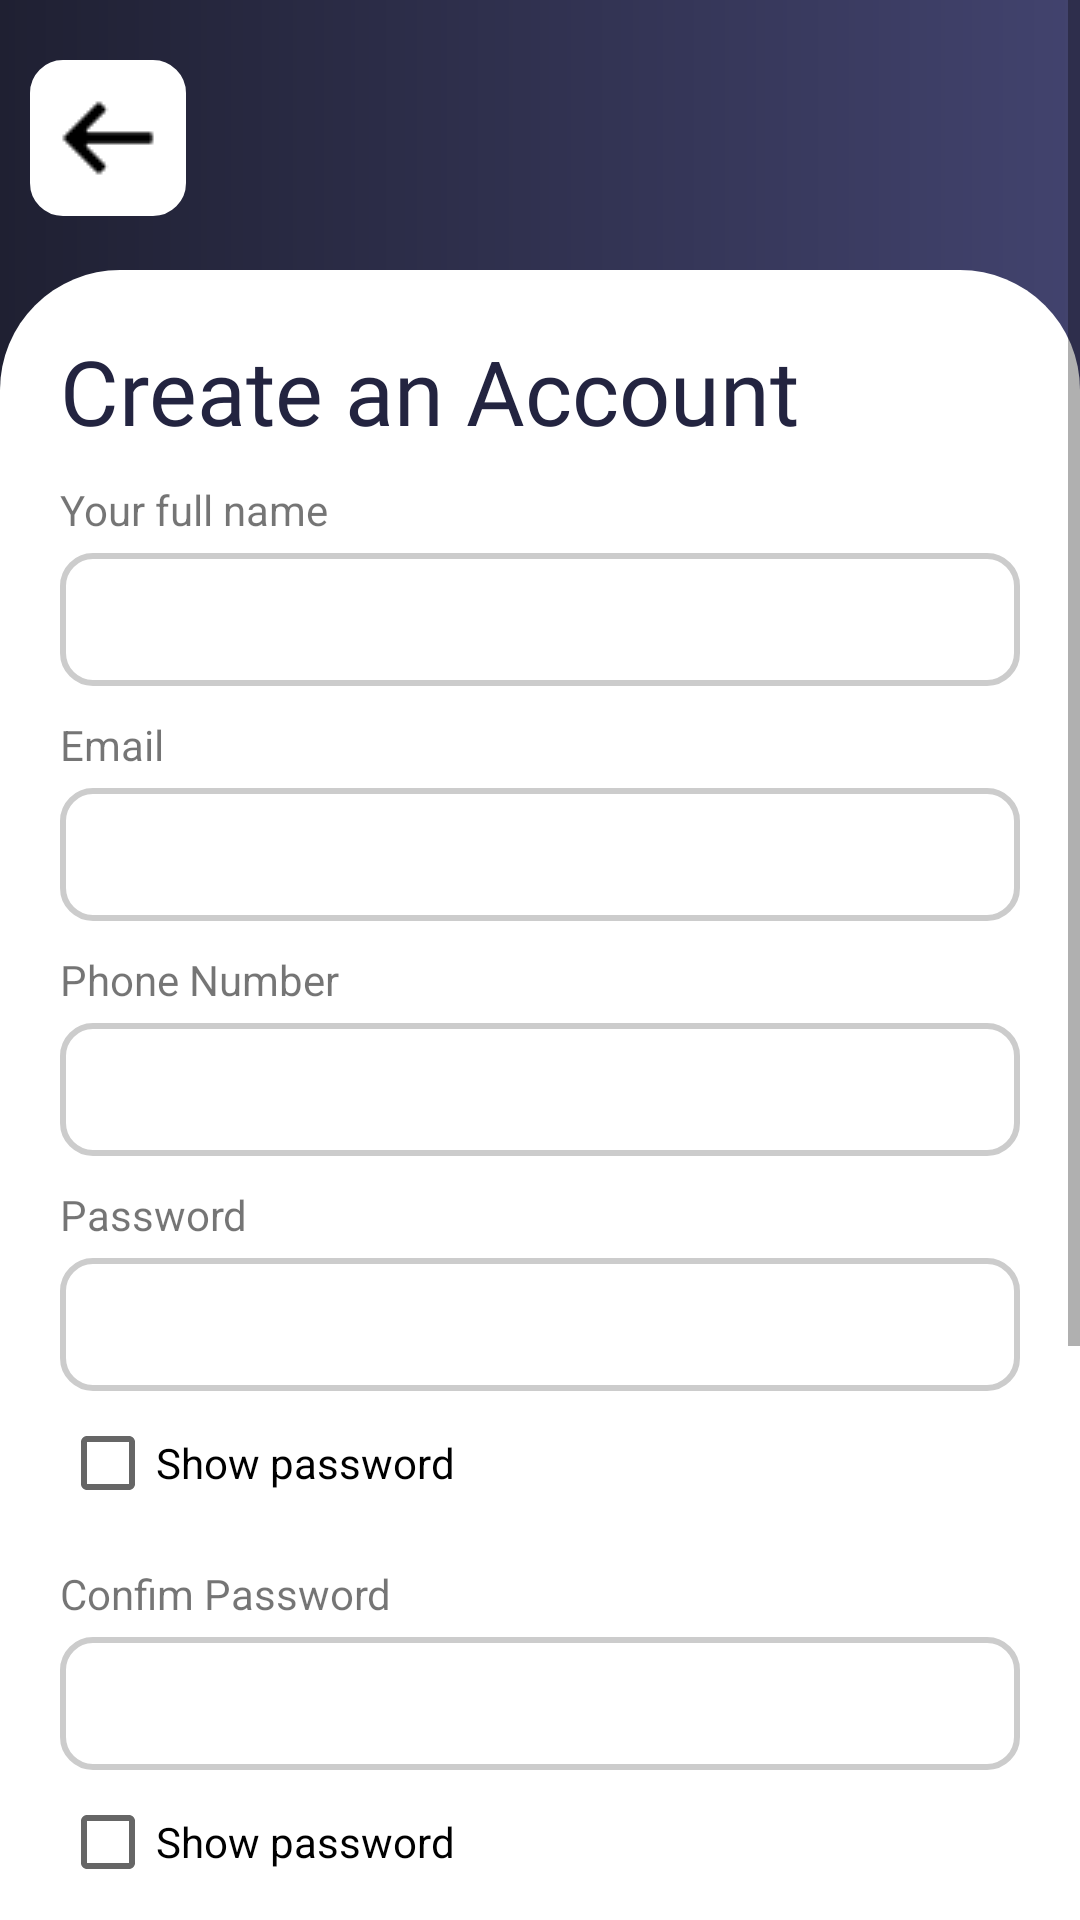

Where icons sit on this 1080x1920 app screen, as {"x1": x1, "y1": y1, "x2": x2, "y2": y2}:
back: {"x1": 30, "y1": 60, "x2": 186, "y2": 216}
